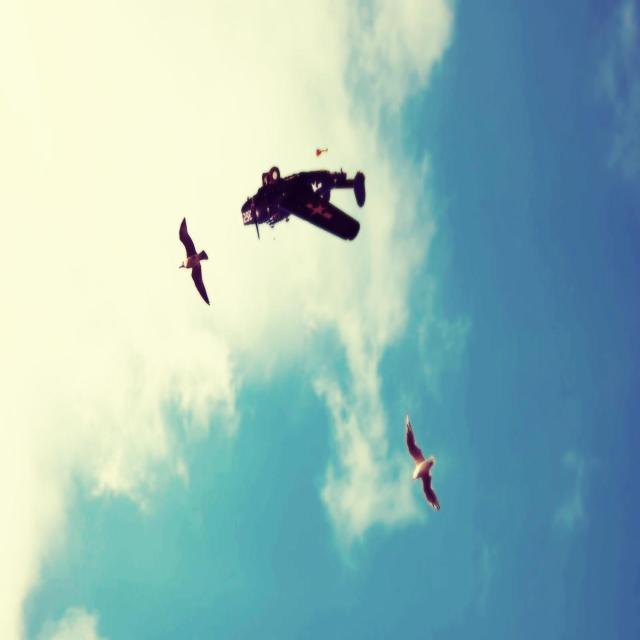airplane: (240, 162, 366, 242)
